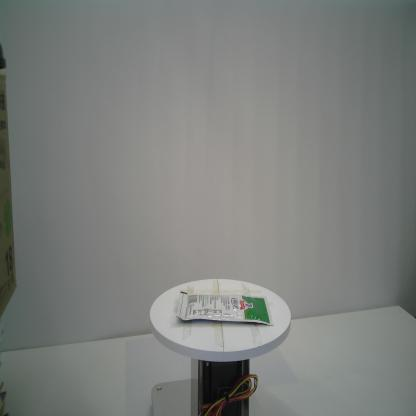Seasoner: (176, 288, 274, 326)
